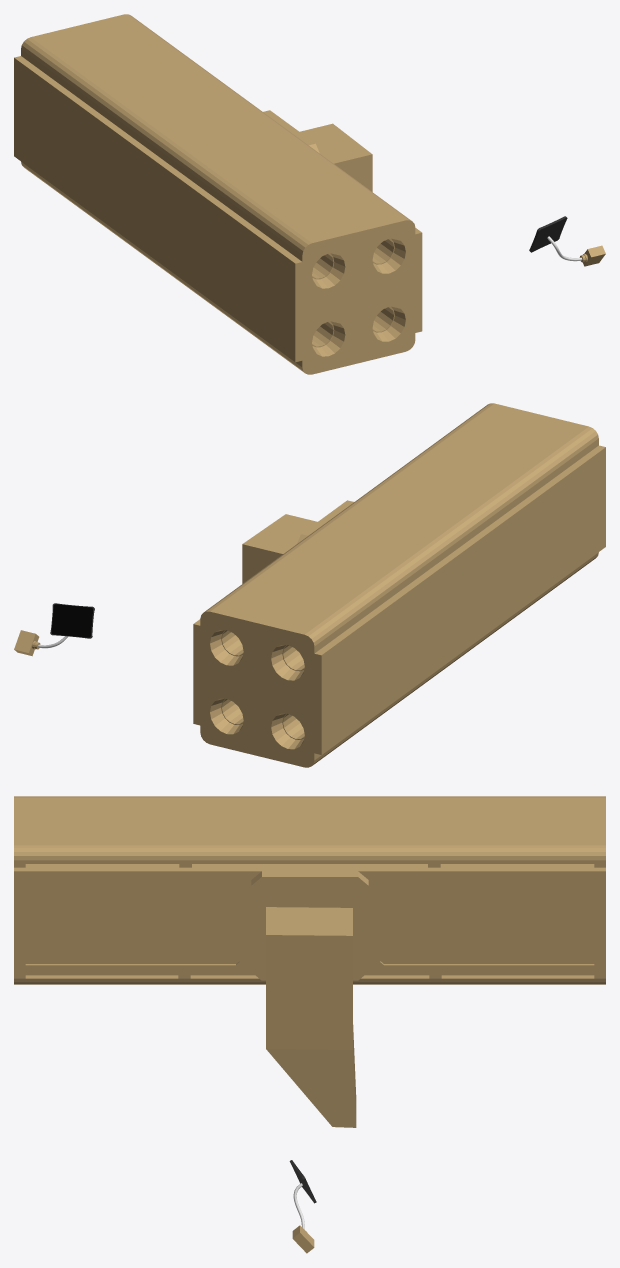
File: M163Machbet.fbx
3 views of the same model, one above another, from view 1: azimuth 30°, elevation 25°; view 2: azimuth 150°, elevation 25°; view 3: azimuth 270°, elevation 25° (orthographic). The views are drawn at different scales.
Parts seen in each view (by area): view 1: Cube.033, Cube.008, Cube.035; view 2: Cube.033, Cube.008, Cube.035; view 3: Cube.033, Cube.008.
Part boxes in pixels (box(x1,y1,x2,y2)): Cube.033: box(14, 14, 422, 374); Cube.008: box(300, 123, 372, 191); Cube.035: box(529, 216, 567, 252); Cube.033: box(193, 403, 605, 767); Cube.008: box(242, 514, 317, 583); Cube.035: box(50, 603, 94, 638); Cube.033: box(14, 796, 605, 984); Cube.008: box(266, 907, 356, 1127).
Bounding box in the file's own units: 39.4 × 19.19 × 43.37.
